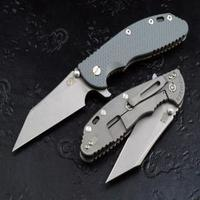knife: (8, 13, 193, 193)
